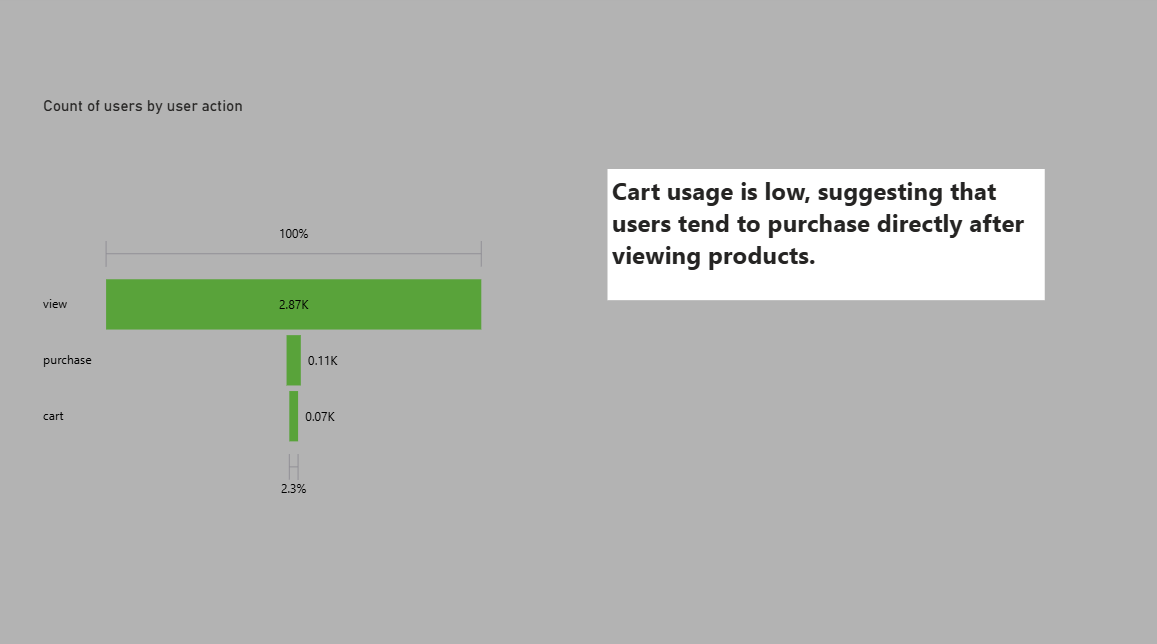

This screenshot's page, from the dashboard's own definition file:
{"tool":"powerbi","page":{"name":"Funnel","canvas":[1280,720],"ordinal":1},"visuals":[{"type":"funnel","fields":{"Category":["events.event_type"],"Y":["Count(events.user_id)"]},"box":[157.8,79.6,279.9,279.9],"z":0},{"type":"textbox","box":[149.6,419.9,883.7,300.5],"z":1}]}

Visuals, with their boxes in screenshot pixels (x1, y1, x2, y2), scaled from the page's 1280x720 canvas onto the 1157x644 screenshot:
funnel - events.event_type x Count(events.user_id): crop(143, 71, 396, 322)
textbox: crop(135, 376, 934, 643)
